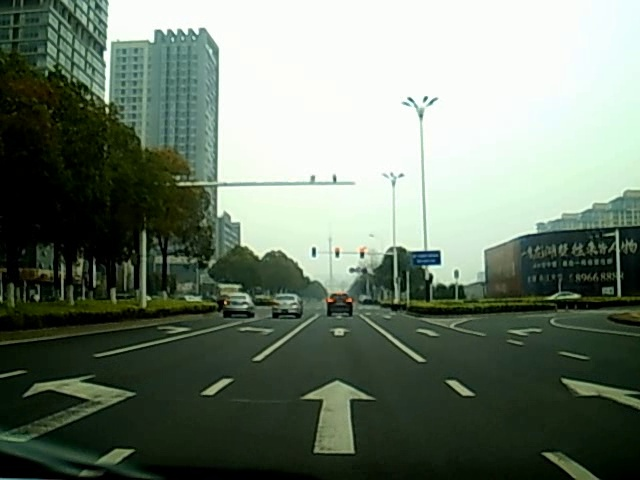Traffic_Light_stop: (359, 246, 366, 260), (334, 249, 340, 259)
